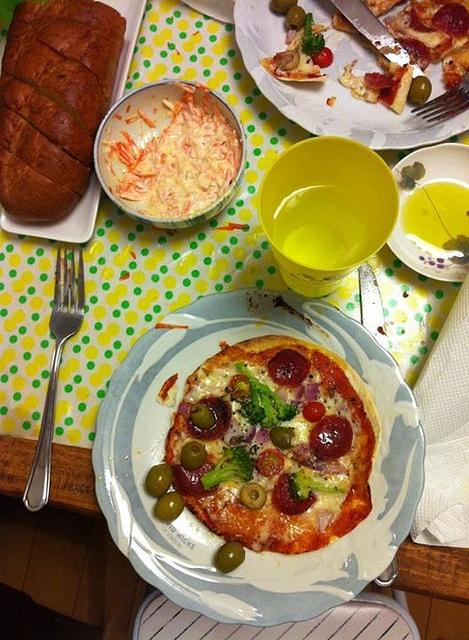broccoli: (236, 362, 298, 428), (200, 447, 255, 490), (287, 469, 346, 502), (302, 12, 325, 56)
onion: (292, 444, 349, 476), (221, 418, 245, 446), (317, 512, 334, 534), (307, 383, 320, 402), (284, 30, 298, 46), (245, 426, 256, 442), (293, 384, 304, 399), (288, 398, 304, 406), (178, 404, 190, 414)
tomato: (310, 414, 354, 463), (186, 397, 232, 441), (272, 473, 317, 516), (267, 349, 311, 388), (256, 449, 284, 477), (227, 374, 250, 398), (302, 402, 326, 423), (311, 47, 334, 67)
